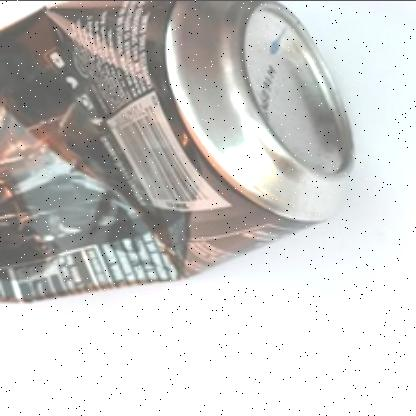Can: (1, 0, 357, 302)
